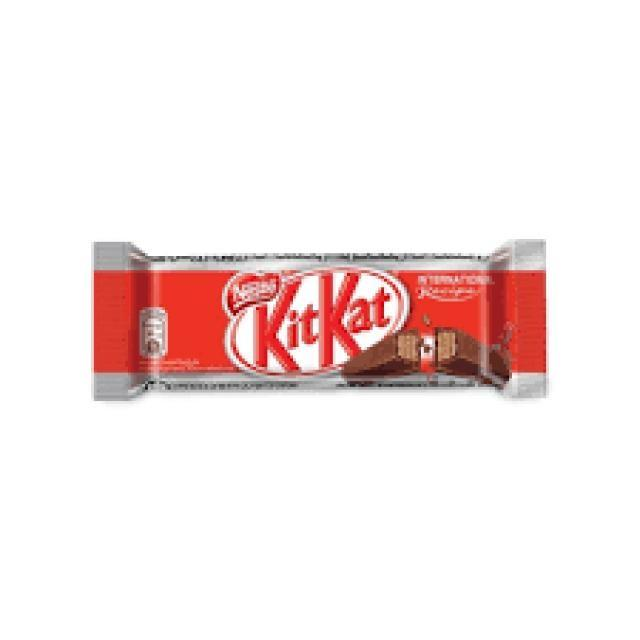kitkat_chocolate: (108, 258, 535, 388)
